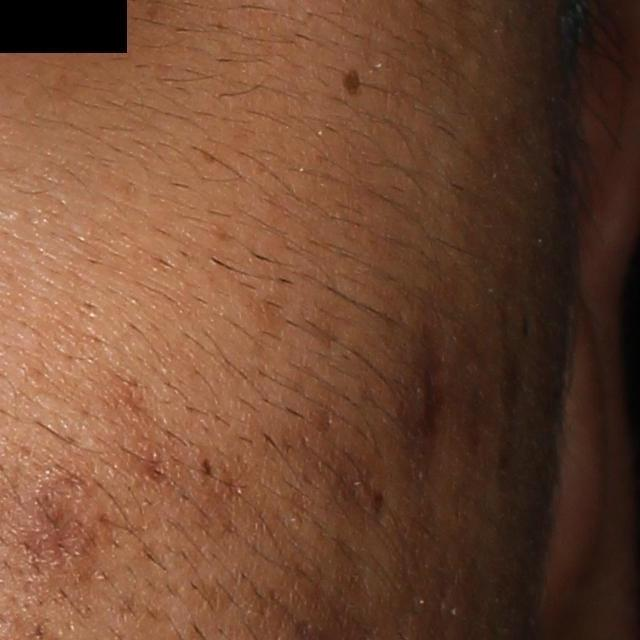nevus: (338, 65, 366, 100)
